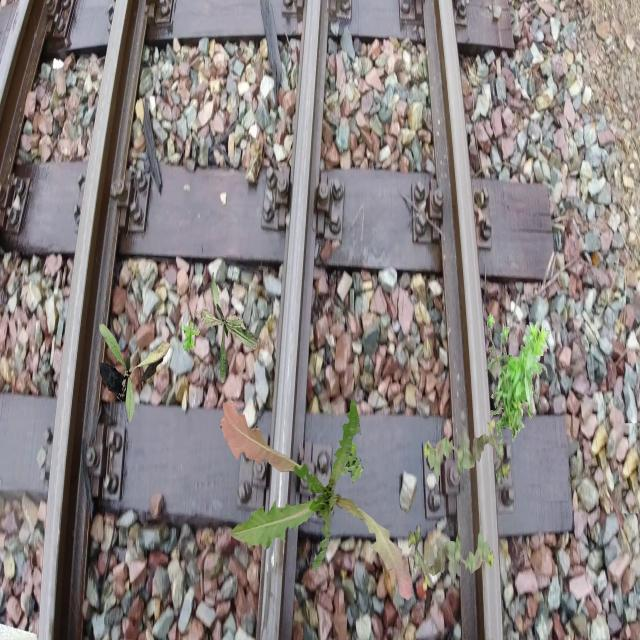Plant: (221, 398, 414, 600), (486, 312, 550, 456), (195, 272, 259, 384), (99, 324, 170, 424), (408, 523, 494, 592), (423, 418, 510, 486), (340, 442, 364, 483), (183, 321, 200, 353)
